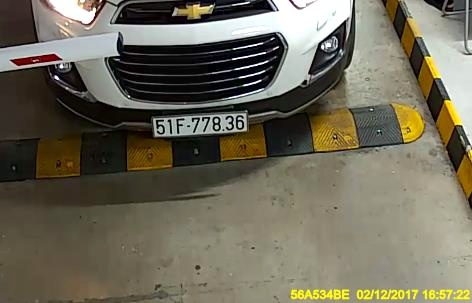plate: (146, 106, 254, 140)
